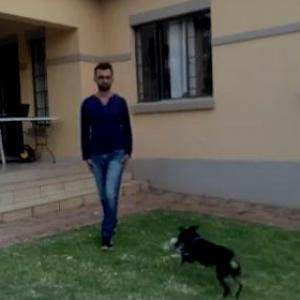follow: (82, 63, 140, 238)
